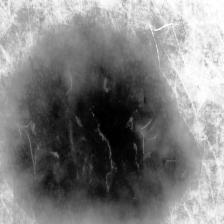Benign Marking or Mole: (11, 22, 188, 224)
